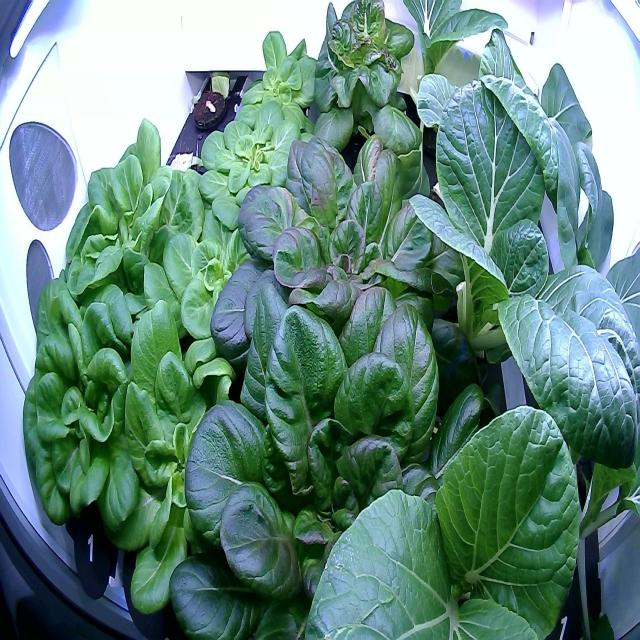Ready: (166, 271, 526, 640), (206, 105, 501, 422), (13, 272, 161, 565), (51, 107, 204, 320)
young: (104, 346, 260, 621), (304, 0, 430, 178), (193, 98, 329, 240), (156, 207, 286, 344), (230, 19, 322, 128)
